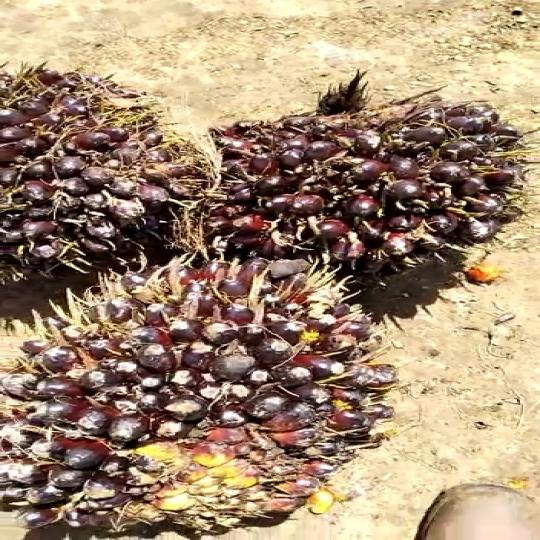mentah: (0, 243, 399, 540), (201, 76, 540, 279), (0, 53, 196, 303)
